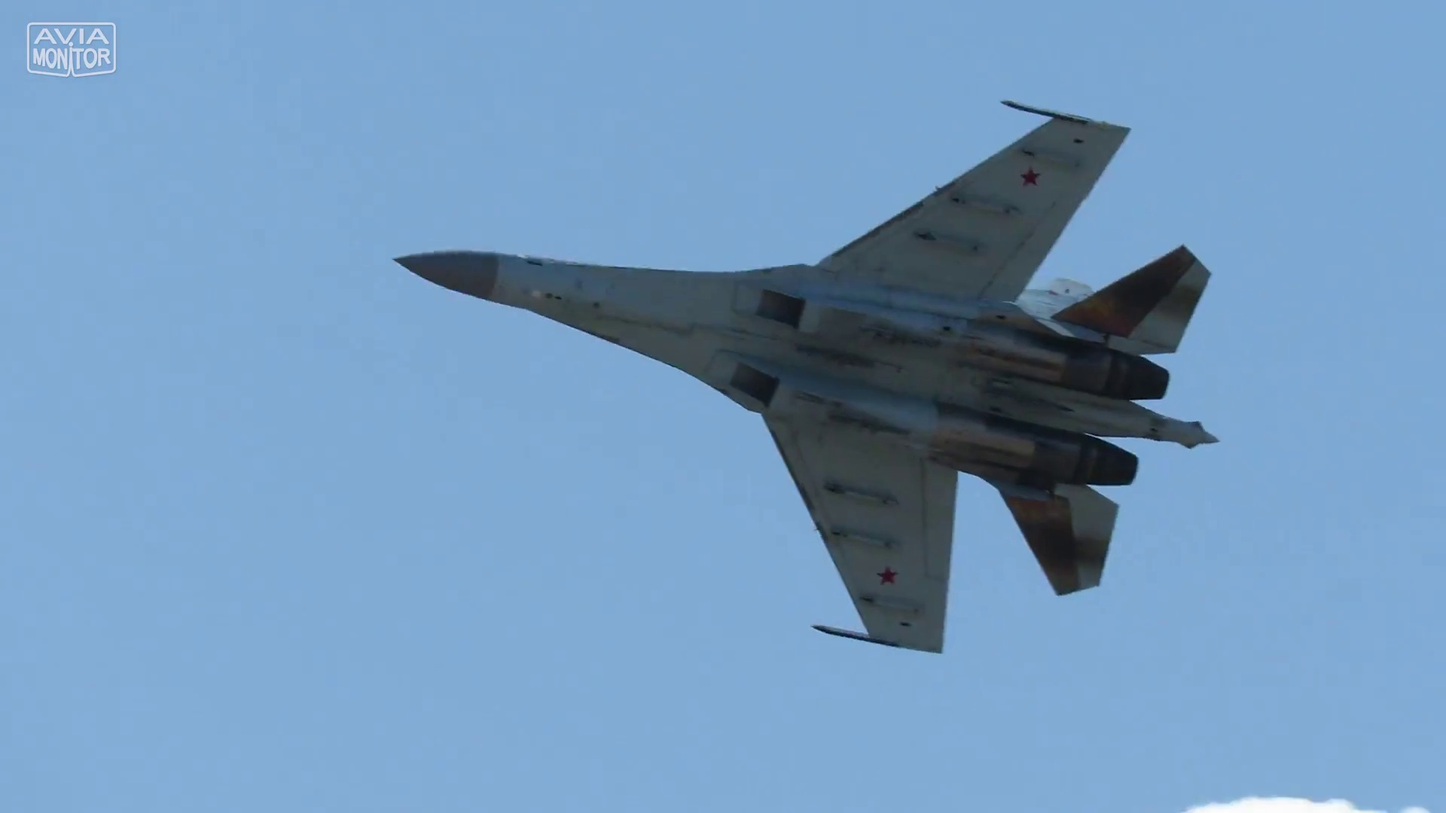Su35: (386, 91, 1228, 667)
